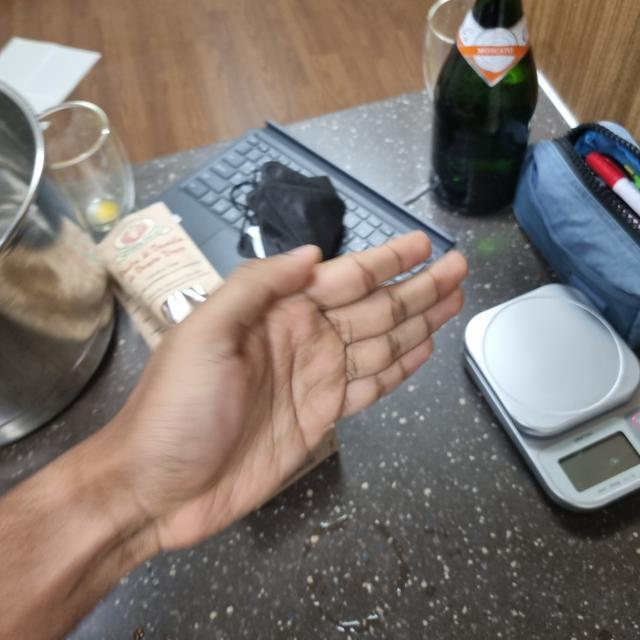Paper: (84, 239, 463, 547)
